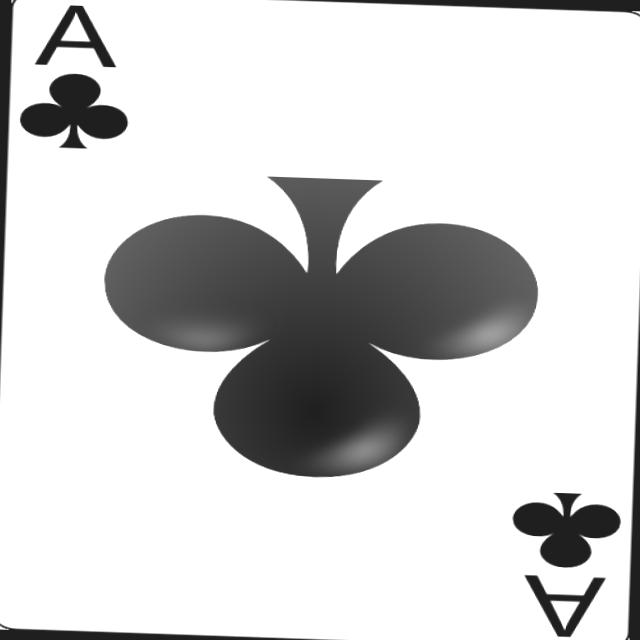Club: (96, 170, 542, 485), (509, 490, 622, 570), (18, 72, 130, 150)
